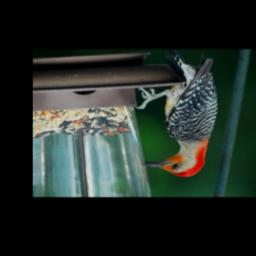Woodpecker: (136, 50, 222, 178)
